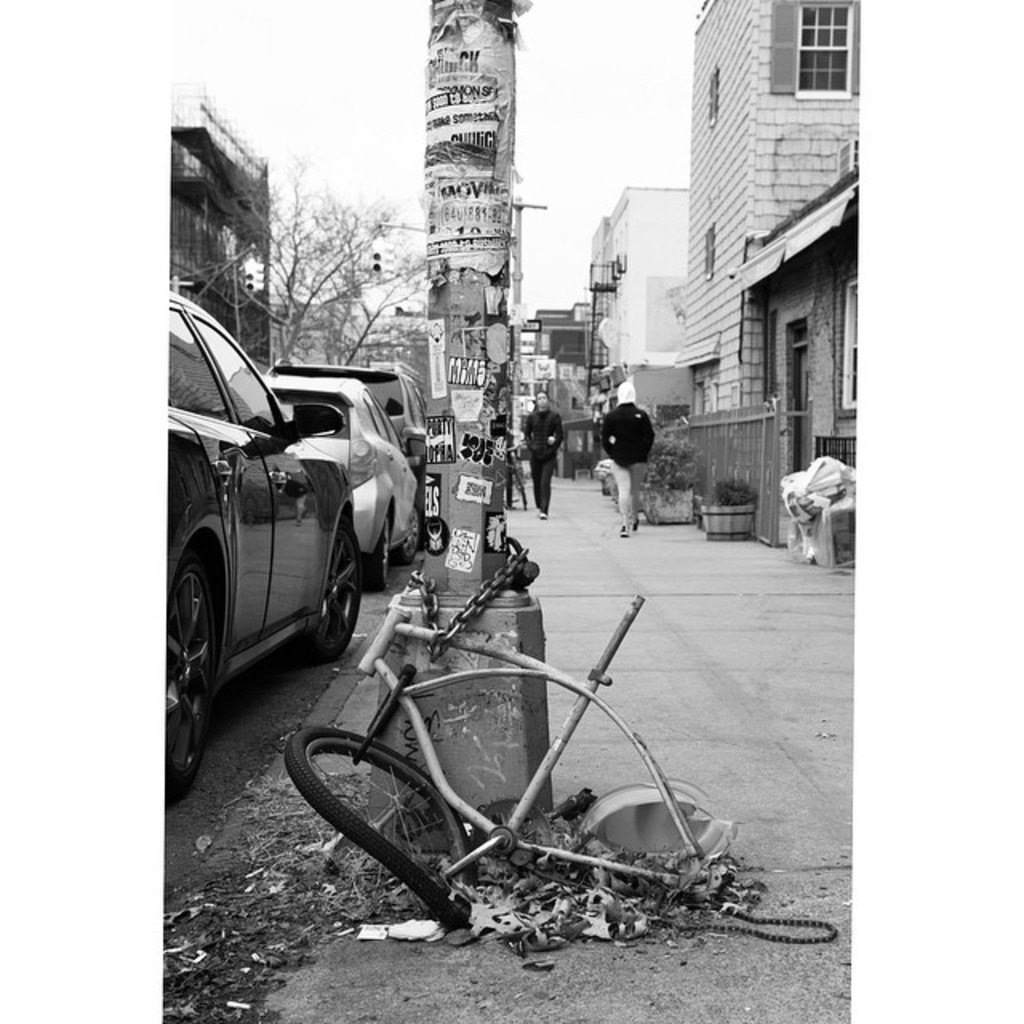Car: (163, 291, 377, 807), (257, 352, 425, 583), (263, 358, 432, 486)
